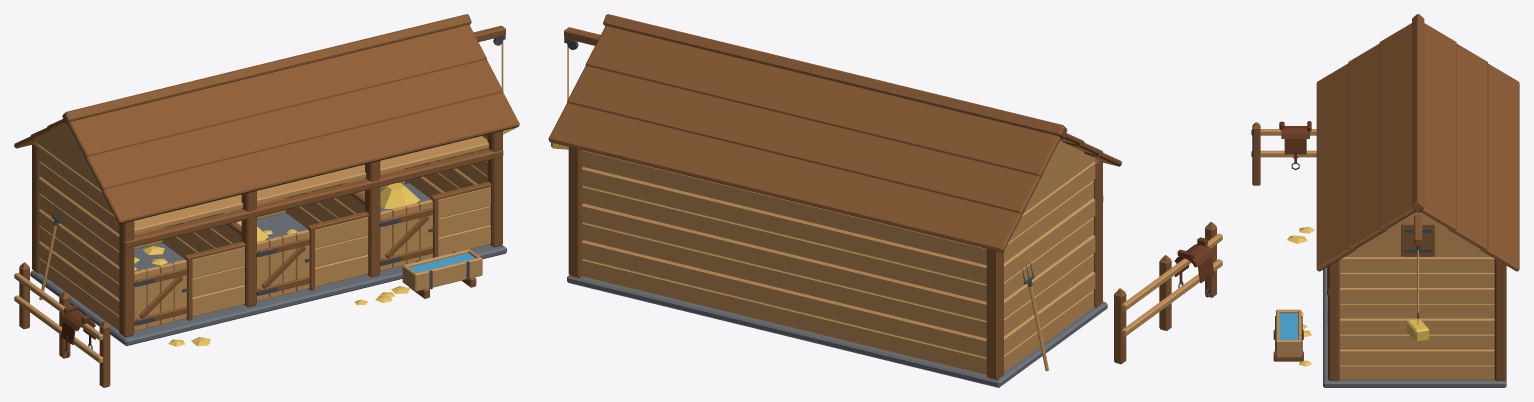
The model's file is medieval-horse-stable.glb.
The picture shows the model from 3 angles, left to right: view 1: azimuth 30°, elevation 25°; view 2: azimuth 150°, elevation 25°; view 3: azimuth 270°, elevation 25°; orthographic projection. The views are drawn at different scales.
Visible parts, largest first — view 1: Stable_Roof, Stable_Frame, Door_Stall2, Door_Stall1, Door_Stall3, Fence, Water_Trough, Hay_Floor, Saddle_Fence, Hoist; view 2: Stable_Frame, Stable_Roof, Fence, Saddle_Fence, Hoist; view 3: Stable_Roof, Stable_Frame, Water_Trough, Fence, LoftDoor, Saddle_Fence, Hoist, Hay_Floor.
Part boxes in pixels (left/top/right/bottom): Stable_Roof: left=14, top=14, right=519, bottom=223; Stable_Frame: left=30, top=125, right=506, bottom=345; Door_Stall2: left=256, top=229, right=311, bottom=301; Door_Stall1: left=134, top=259, right=188, bottom=331; Door_Stall3: left=380, top=199, right=434, bottom=271; Fence: left=14, top=262, right=110, bottom=387; Water_Trough: left=402, top=249, right=482, bottom=298; Hay_Floor: left=134, top=183, right=419, bottom=346; Saddle_Fence: left=61, top=305, right=95, bottom=357; Hoist: left=473, top=25, right=515, bottom=134; Stable_Frame: left=567, top=140, right=1107, bottom=387; Stable_Roof: left=548, top=14, right=1121, bottom=252; Fence: left=1114, top=222, right=1222, bottom=364; Saddle_Fence: left=1174, top=237, right=1214, bottom=297; Hoist: left=551, top=27, right=600, bottom=149; Stable_Roof: left=1316, top=14, right=1519, bottom=271; Stable_Frame: left=1323, top=212, right=1506, bottom=387; Water_Trough: left=1273, top=309, right=1303, bottom=361; Fence: left=1251, top=122, right=1316, bottom=185; LoftDoor: left=1401, top=223, right=1434, bottom=256; Saddle_Fence: left=1279, top=121, right=1311, bottom=170; Hoist: left=1407, top=215, right=1429, bottom=342; Hay_Floor: left=1287, top=226, right=1314, bottom=366.
Size of the model in its own units: 33.34 by 12.45 by 15.76.
